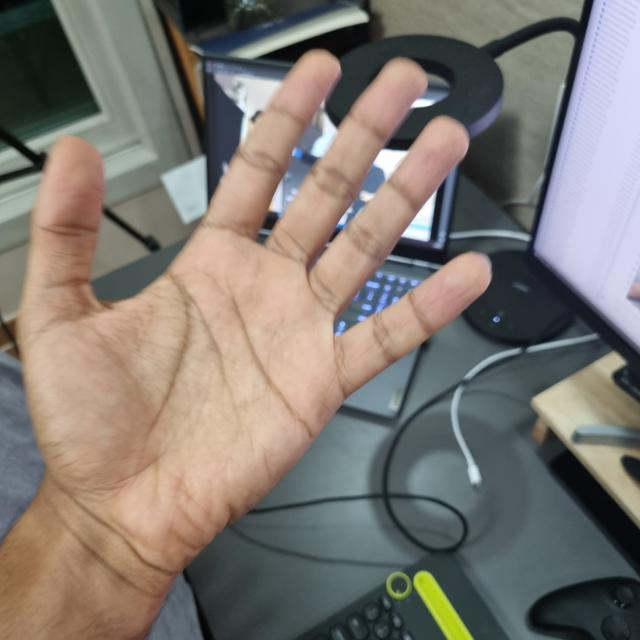Paper: (17, 52, 490, 567)
